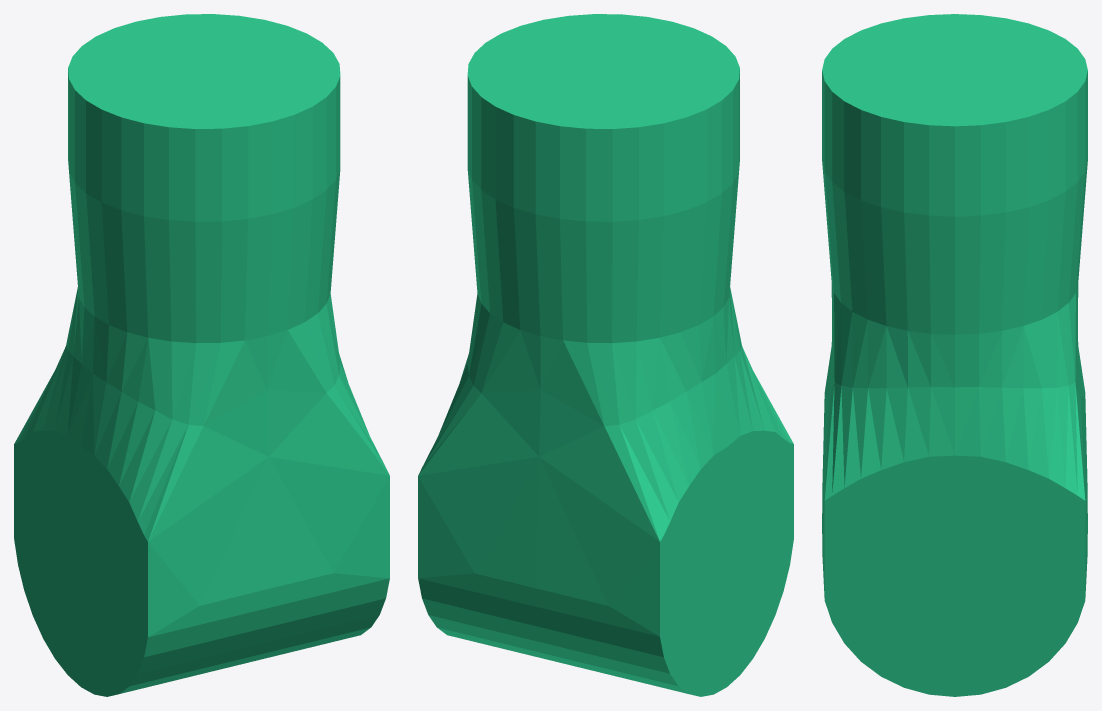
3 views of the same model, side by side, from view 1: azimuth 30°, elevation 25°; view 2: azimuth 150°, elevation 25°; view 3: azimuth 270°, elevation 25° (orthographic). The views are drawn at different scales.
Visible parts, largest first — view 1: link_5; view 2: link_5; view 3: link_5.
Boxes of the visible parts, x1,y1,x2,y2 form: link_5: (14, 14, 389, 696); link_5: (418, 14, 793, 696); link_5: (822, 14, 1087, 696).
Bounding box in the file's own units: 2.05 × 2 × 4.74.
